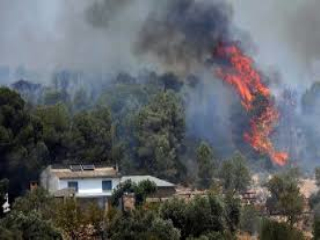fire: (225, 45, 292, 173)
smoke: (132, 4, 248, 76)
